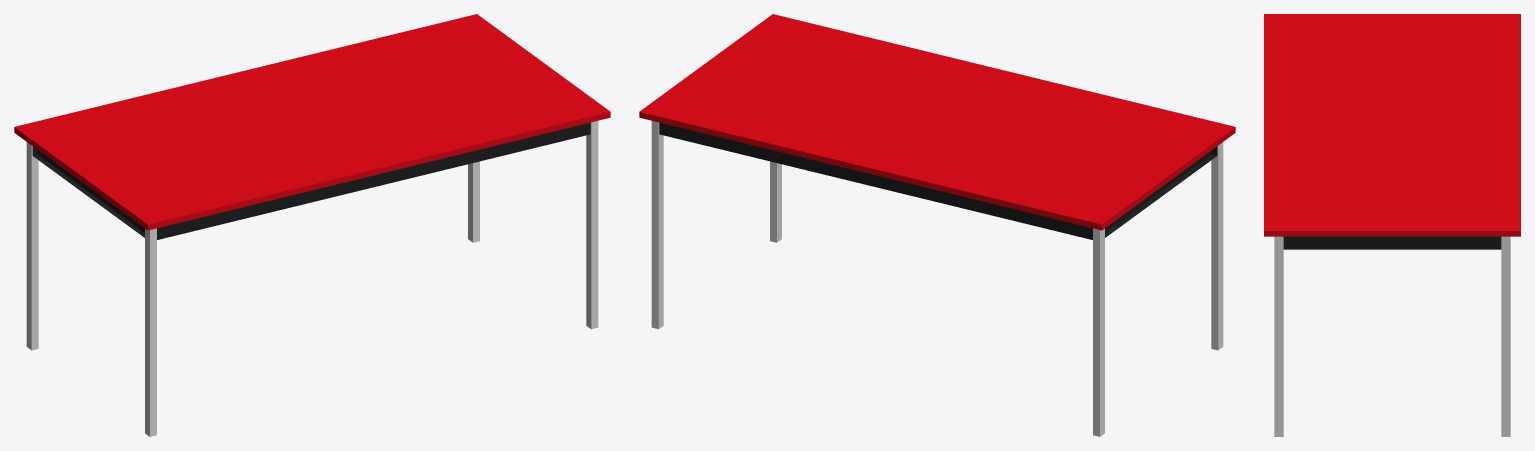
Rendered from PH_TABLE.fbx.
The picture shows the model from 3 angles, left to right: view 1: azimuth 30°, elevation 25°; view 2: azimuth 150°, elevation 25°; view 3: azimuth 270°, elevation 25°; orthographic projection. The views are drawn at different scales.
Parts seen in each view (by area): view 1: PH_TABLE; view 2: PH_TABLE; view 3: PH_TABLE.
Boxes of the visible parts, x1=… form: PH_TABLE: x1=14, y1=14, x2=610, y2=436; PH_TABLE: x1=639, y1=14, x2=1235, y2=436; PH_TABLE: x1=1264, y1=14, x2=1520, y2=436.
Size of the model in its own units: 200 by 90 by 100.
